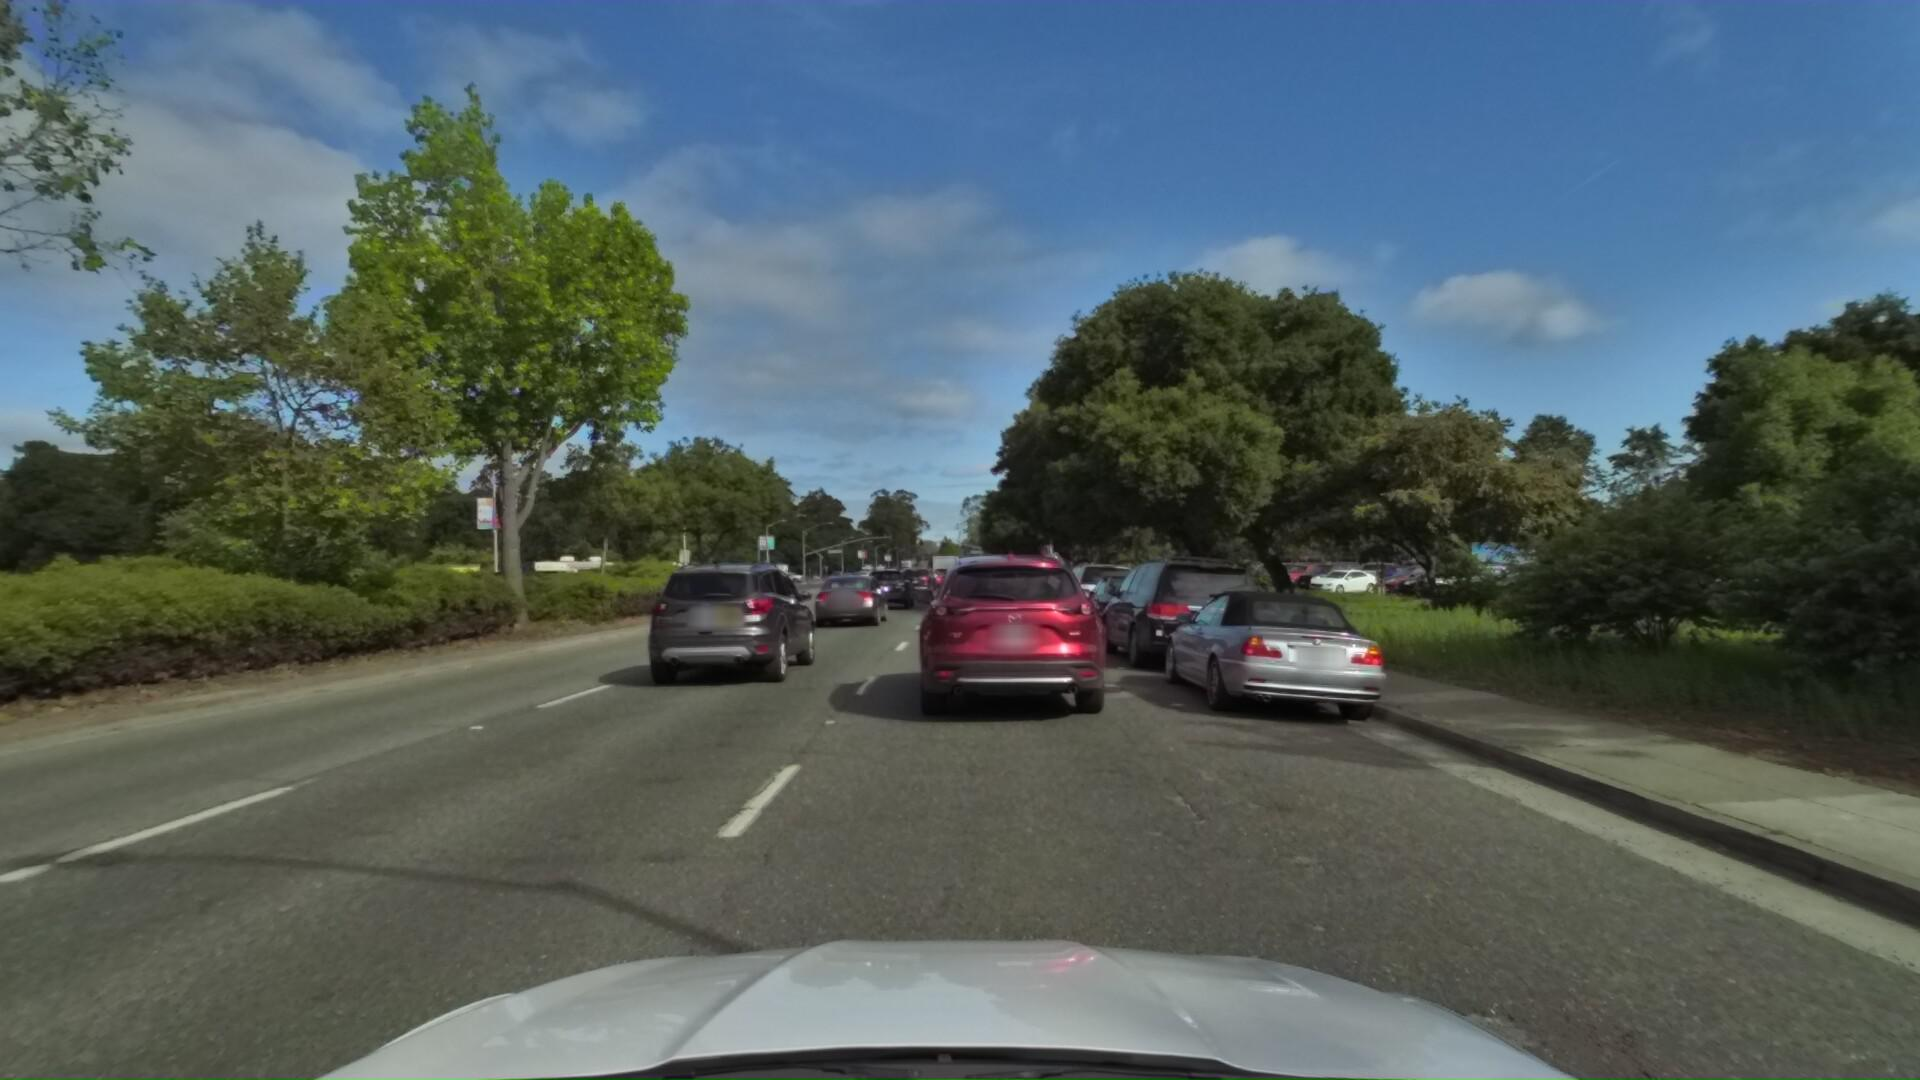car: (901, 538, 1131, 735), (1151, 572, 1403, 733), (632, 554, 825, 694), (1092, 539, 1274, 676), (1069, 563, 1189, 644), (1050, 553, 1149, 629), (943, 575, 1029, 640), (808, 568, 891, 632), (855, 564, 916, 613), (942, 567, 1000, 611), (897, 564, 936, 596), (919, 568, 945, 588)
other_vehicle: (522, 549, 622, 608)
truck: (345, 556, 488, 624)
